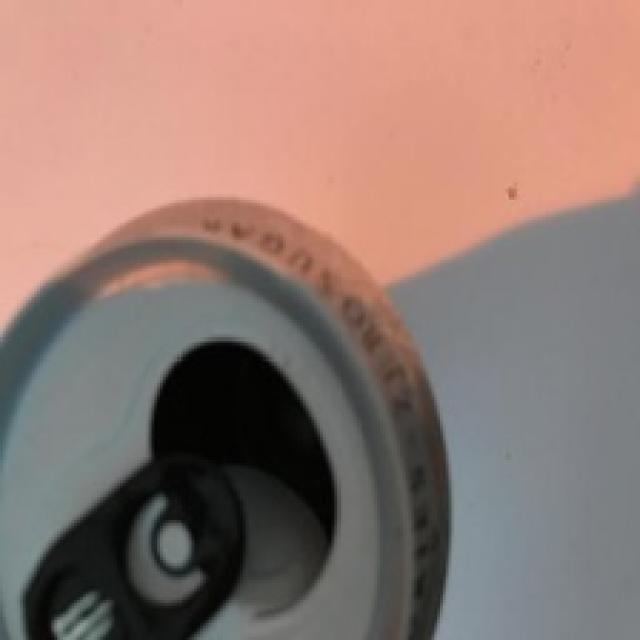recyclable: (0, 198, 456, 640)
